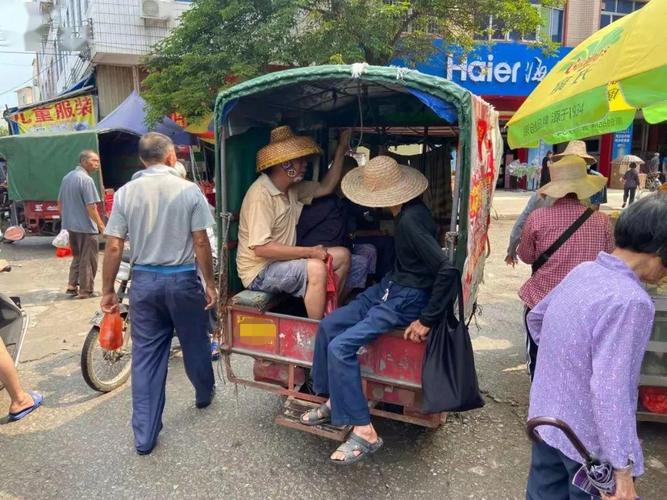overloading: (202, 69, 495, 458)
passenger: (338, 155, 448, 447), (248, 117, 327, 346)
